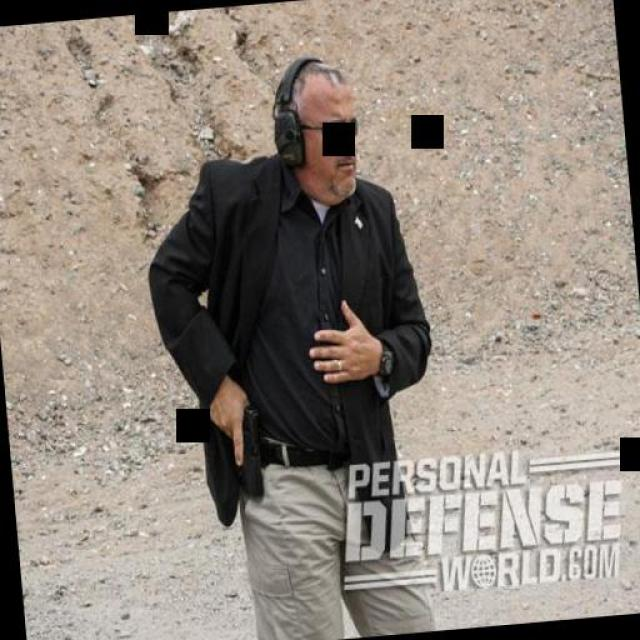gun: (220, 400, 266, 501)
